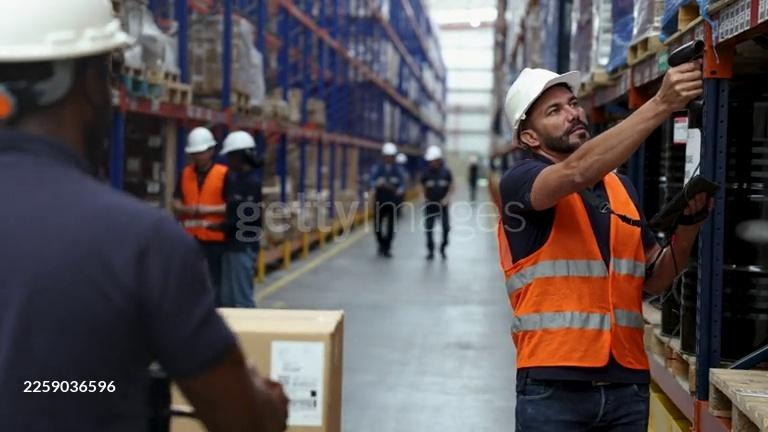helmet: (0, 0, 127, 65), (501, 69, 581, 138), (184, 127, 216, 154), (220, 131, 255, 154), (382, 142, 398, 156), (425, 146, 441, 160)
person: (0, 0, 292, 432), (492, 60, 716, 432), (169, 127, 231, 302), (217, 130, 265, 308), (365, 142, 411, 257), (413, 145, 454, 260)
